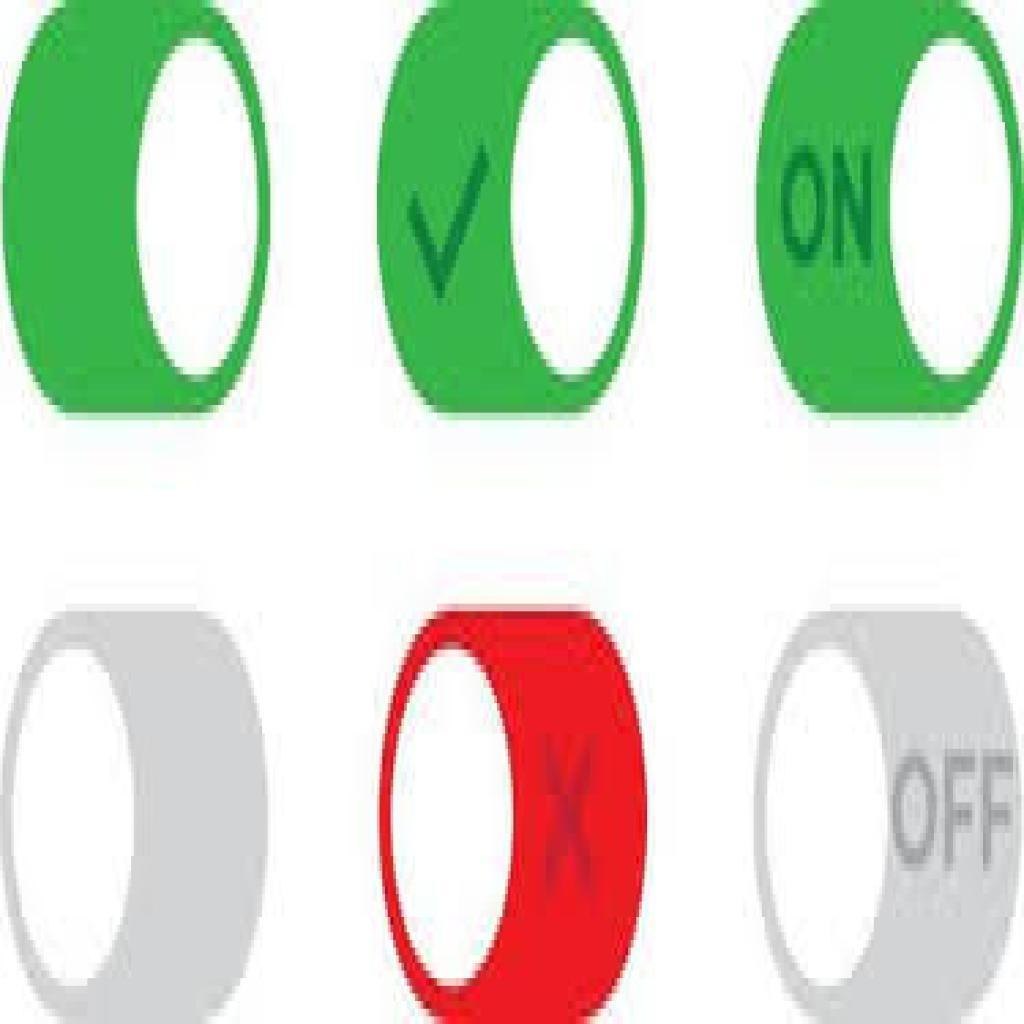switch: (748, 591, 1024, 1022), (376, 590, 649, 1024), (371, 1, 649, 426), (754, 1, 1024, 431), (4, 1, 275, 423), (1, 602, 272, 1024)
